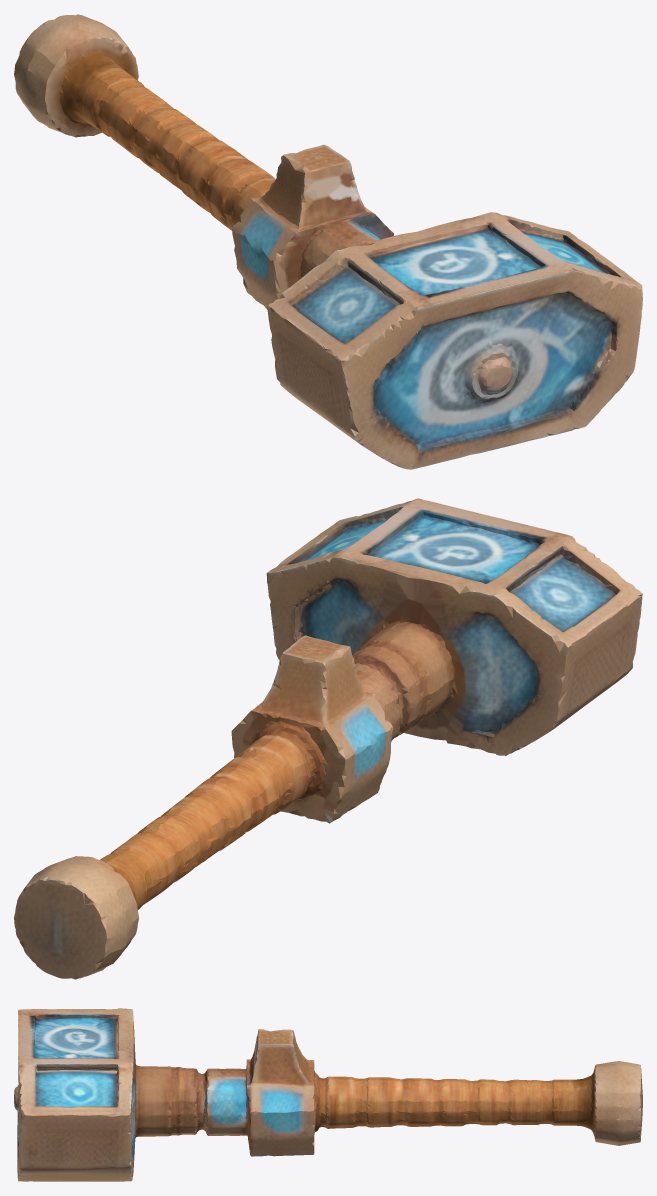
File: hammer.glb
The picture shows the model from 3 angles, top to bottom: view 1: azimuth 30°, elevation 25°; view 2: azimuth 150°, elevation 25°; view 3: azimuth 270°, elevation 25°; orthographic projection. The views are drawn at different scales.
Parts seen in each view (by area): view 1: hammer; view 2: hammer; view 3: hammer.
Part boxes in pixels (bbox=[...]): hammer: bbox=[14, 14, 642, 469]; hammer: bbox=[14, 498, 642, 979]; hammer: bbox=[14, 1008, 642, 1181].
Bounding box in the file's own units: 0.7541 × 0.3792 × 1.89.
Materials: 1 (1 with a texture image).
